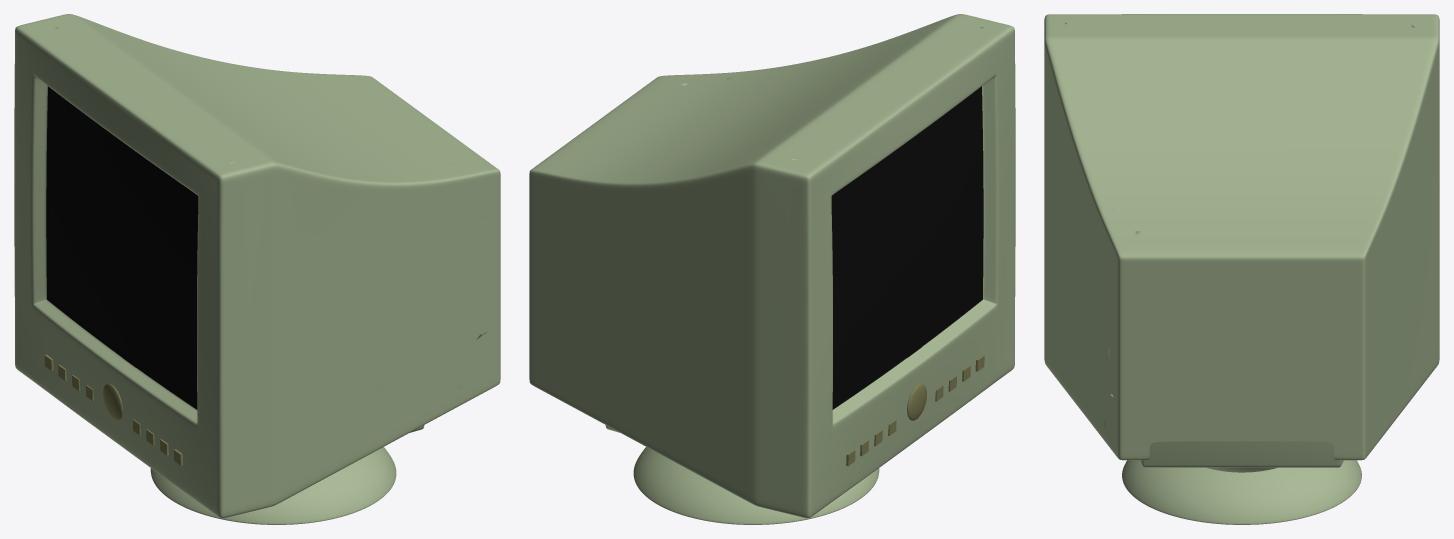
The model's file is computer_RF.fbx.
3 renders of one model, left to right at view 1: azimuth 30°, elevation 25°; view 2: azimuth 150°, elevation 25°; view 3: azimuth 270°, elevation 25°, orthographic. The views are drawn at different scales.
Visible parts, largest first — view 1: Box002, Object001, Sphere002, Box008; view 2: Box002, Object001, Sphere002, Box008; view 3: Box002, Sphere002, Box003.
Part boxes in pixels (x1,y1,x2,y2): Box002: [14, 14, 500, 518]; Object001: [46, 86, 198, 409]; Sphere002: [150, 447, 396, 524]; Box008: [44, 354, 182, 465]; Box002: [529, 14, 1015, 518]; Object001: [831, 86, 983, 409]; Sphere002: [633, 447, 879, 524]; Box008: [846, 355, 984, 466]; Box002: [1044, 14, 1439, 460]; Sphere002: [1122, 460, 1361, 524]; Box003: [1140, 441, 1343, 467].
Size of the model in its own units: 30.27 by 36.24 by 33.23.
